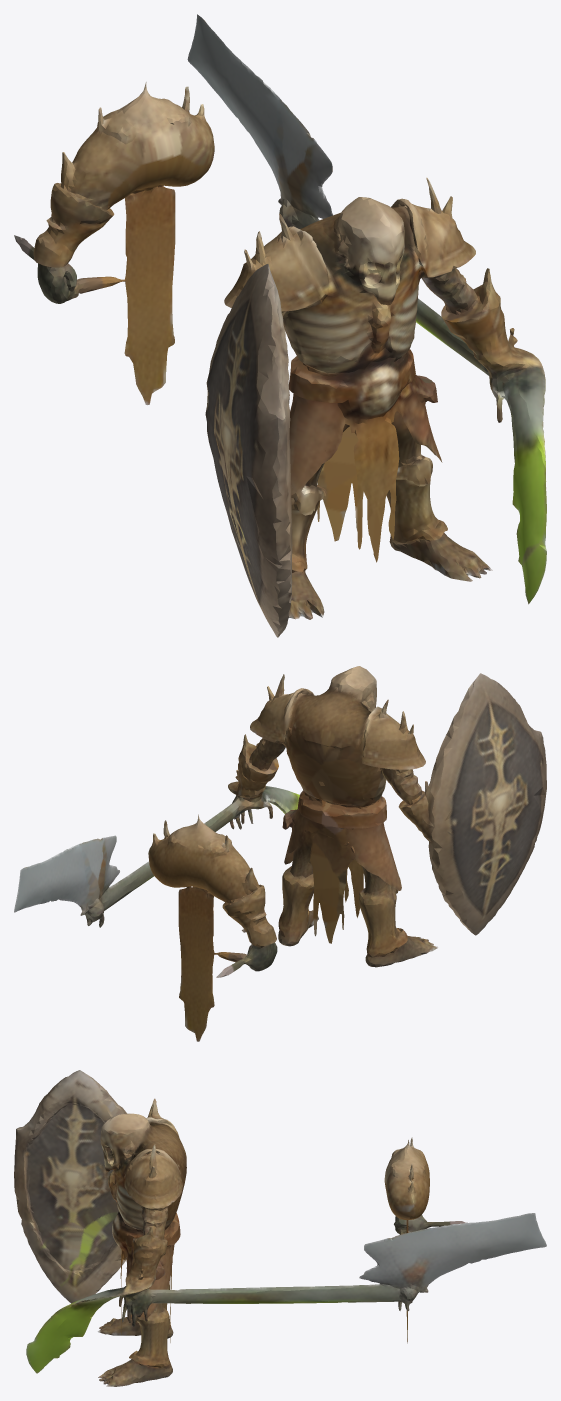
Rendered from undead_warrior.glb.
The picture shows the model from 3 angles, top to bottom: view 1: azimuth 30°, elevation 25°; view 2: azimuth 150°, elevation 25°; view 3: azimuth 270°, elevation 25°; orthographic projection. The views are drawn at different scales.
Visible parts, largest first — view 1: undead_warrior; view 2: undead_warrior; view 3: undead_warrior.
Boxes of the visible parts, x1,y1,x2,y2 form: undead_warrior: (14, 14, 546, 637); undead_warrior: (14, 666, 546, 1041); undead_warrior: (14, 1070, 546, 1386).
Size of the model in its own units: 0.9437 by 0.9488 by 1.9.
Materials: 1 (1 with a texture image).
